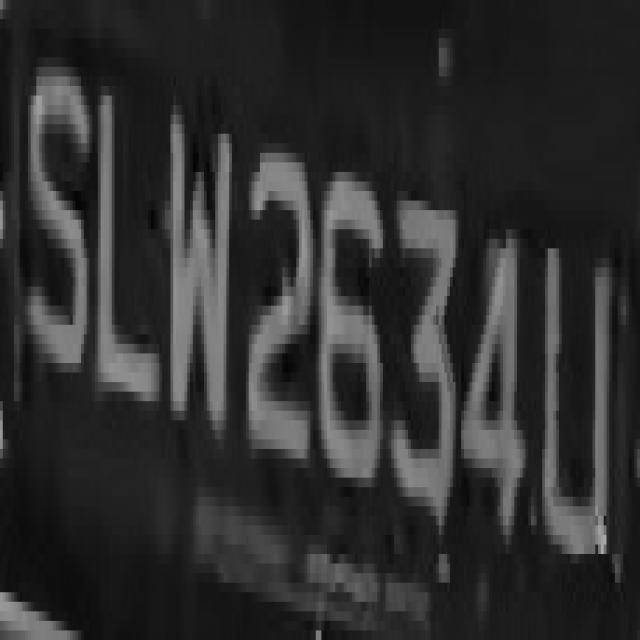2: (243, 105, 316, 516)
3: (383, 143, 461, 535)
4: (456, 172, 526, 564)
6: (313, 124, 394, 526)
L: (84, 57, 159, 468)
S: (20, 48, 92, 401)
U: (537, 162, 612, 554)
W: (165, 67, 240, 458)
